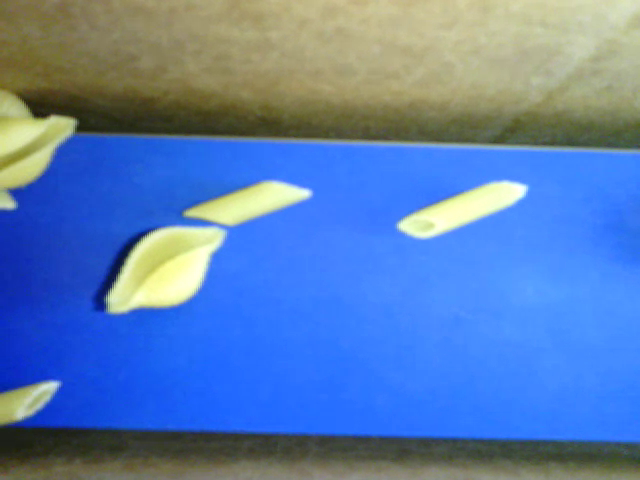penne: (394, 179, 531, 241), (182, 177, 313, 229), (1, 375, 63, 428)
shell: (104, 221, 229, 318), (1, 114, 81, 190), (1, 89, 34, 118)
